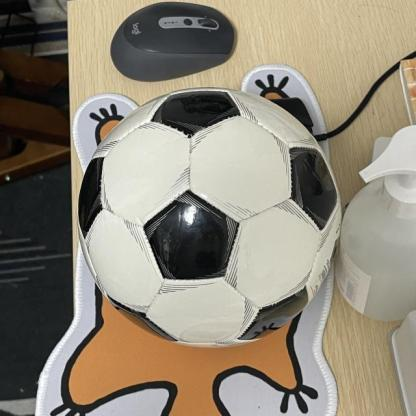ball: (77, 85, 342, 348)
